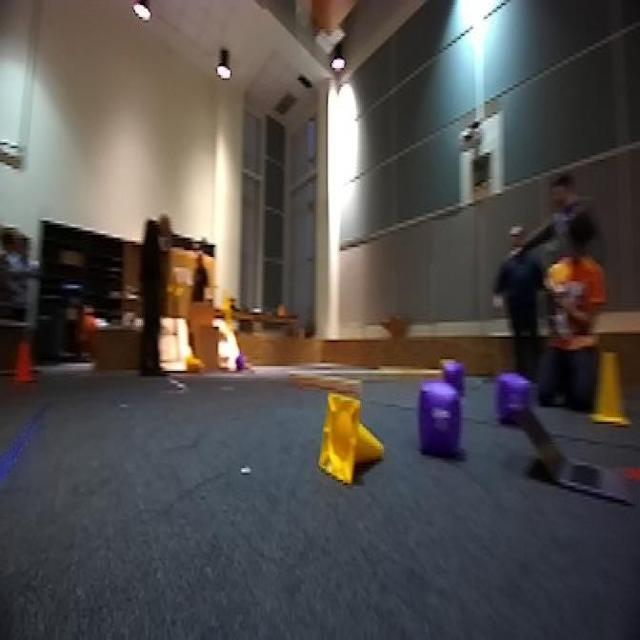frc_cone: (320, 392, 388, 485), (588, 352, 630, 429), (183, 352, 202, 378)
frc_cube: (417, 383, 462, 460), (494, 370, 530, 426), (441, 356, 465, 388), (232, 354, 248, 371)
